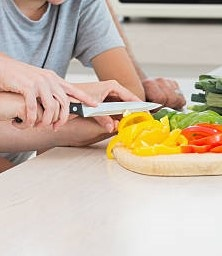knife: (33, 99, 167, 117)
